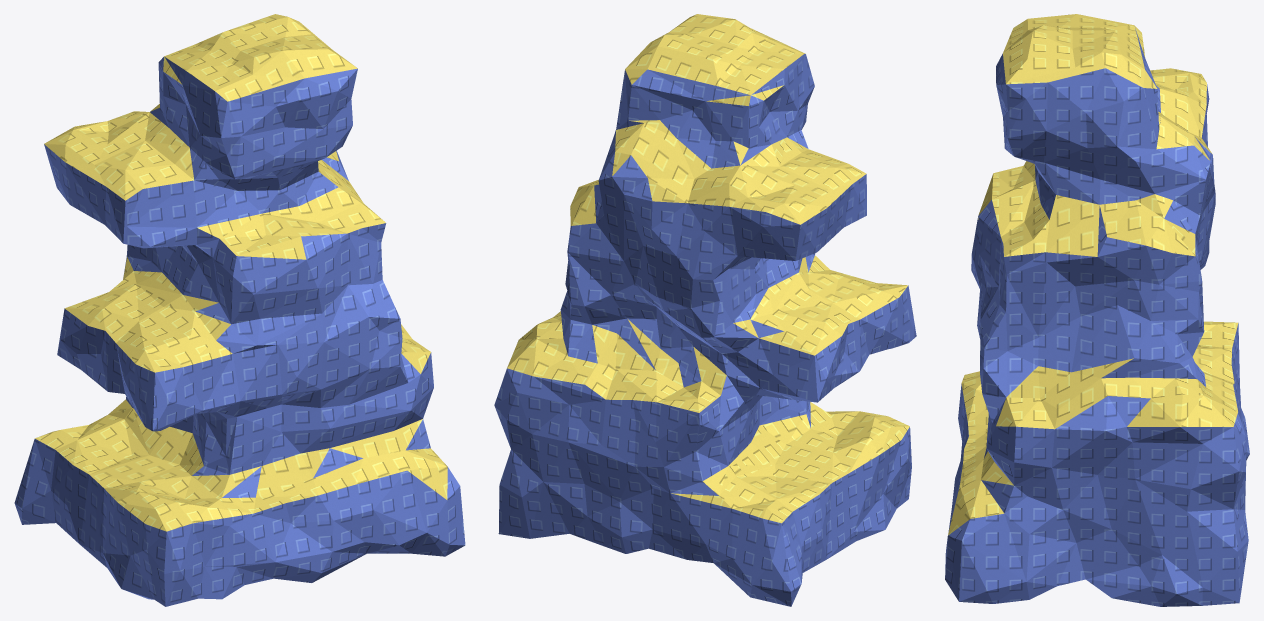
The model's file is ReefPinnacle.glb.
3 views of the same model, side by side, from view 1: azimuth 30°, elevation 25°; view 2: azimuth 150°, elevation 25°; view 3: azimuth 270°, elevation 25° (orthographic). The views are drawn at different scales.
Parts seen in each view (by area): view 1: ReefPinnacle_Rock, ReefPinnacle_Top; view 2: ReefPinnacle_Rock, ReefPinnacle_Top; view 3: ReefPinnacle_Rock, ReefPinnacle_Top.
Boxes of the visible parts, bbox=[...] form: ReefPinnacle_Rock: bbox=[14, 56, 465, 606]; ReefPinnacle_Top: bbox=[35, 14, 447, 531]; ReefPinnacle_Rock: bbox=[494, 54, 916, 606]; ReefPinnacle_Top: bbox=[507, 14, 909, 523]; ReefPinnacle_Rock: bbox=[945, 28, 1249, 606]; ReefPinnacle_Top: bbox=[948, 14, 1238, 535].
Size of the model in its own units: 15.61 by 23.66 by 12.88.
2 materials, 2 textured.
